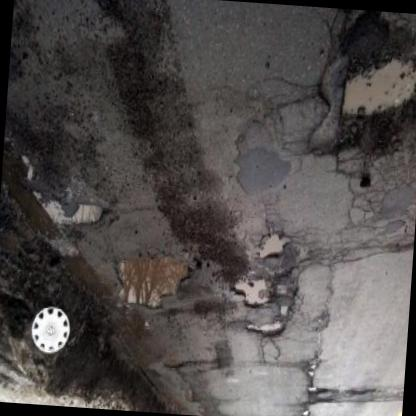pothole: (332, 47, 416, 165), (113, 252, 192, 314), (231, 276, 270, 314), (258, 232, 290, 265), (70, 202, 104, 233), (244, 317, 284, 341)
